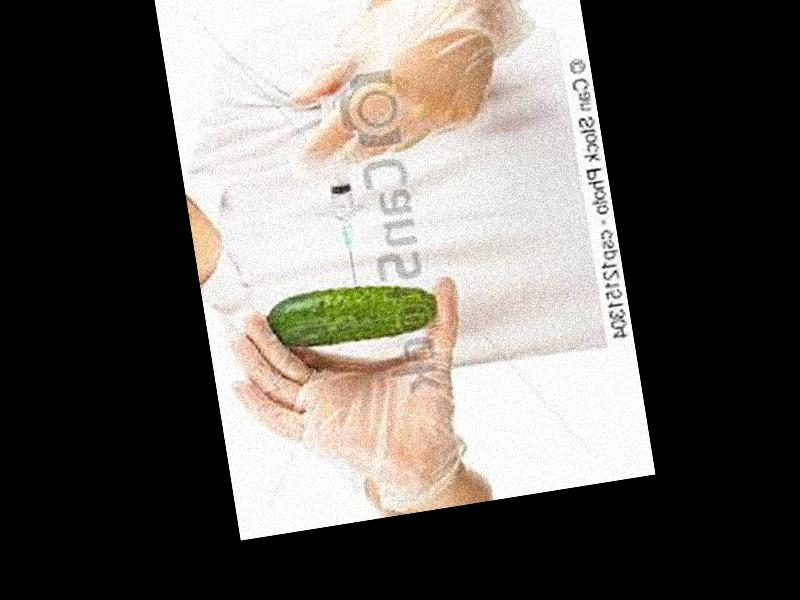Cucumber: (259, 275, 439, 357)
